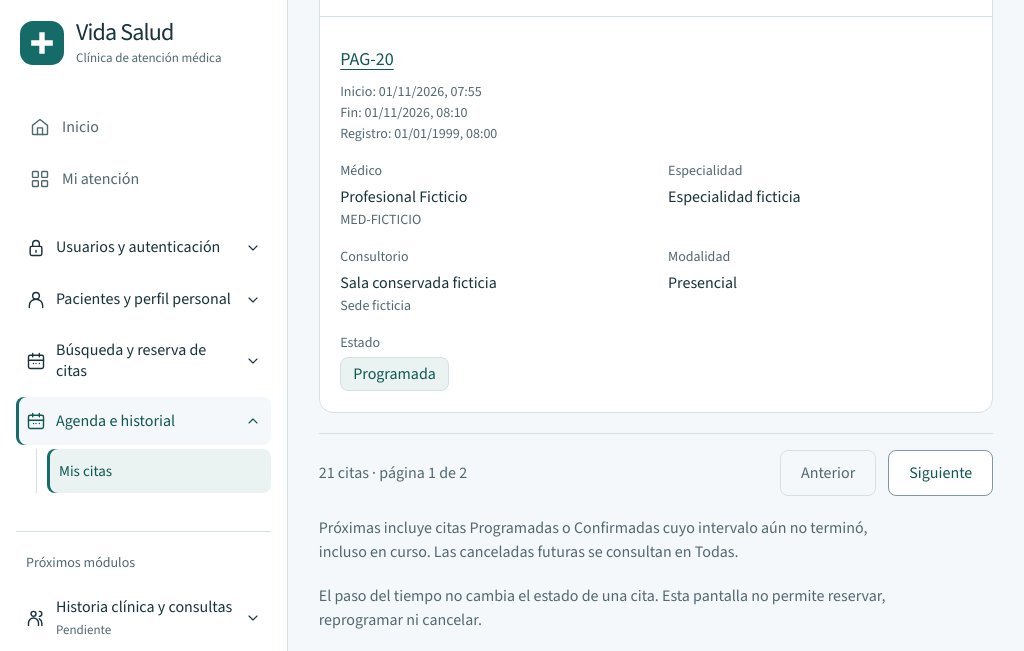
Test case: Paciente pagina y vuelve del detalle conservando criterios, sin guardar citas
This screenshot has width=1024, height=651.
(page scrolled)
What coordinates should you click on to do the following:
click the button "Siguiente"
I would click on:
 (941, 473)
Its box is [888,450,993,496].
(page scrolled)
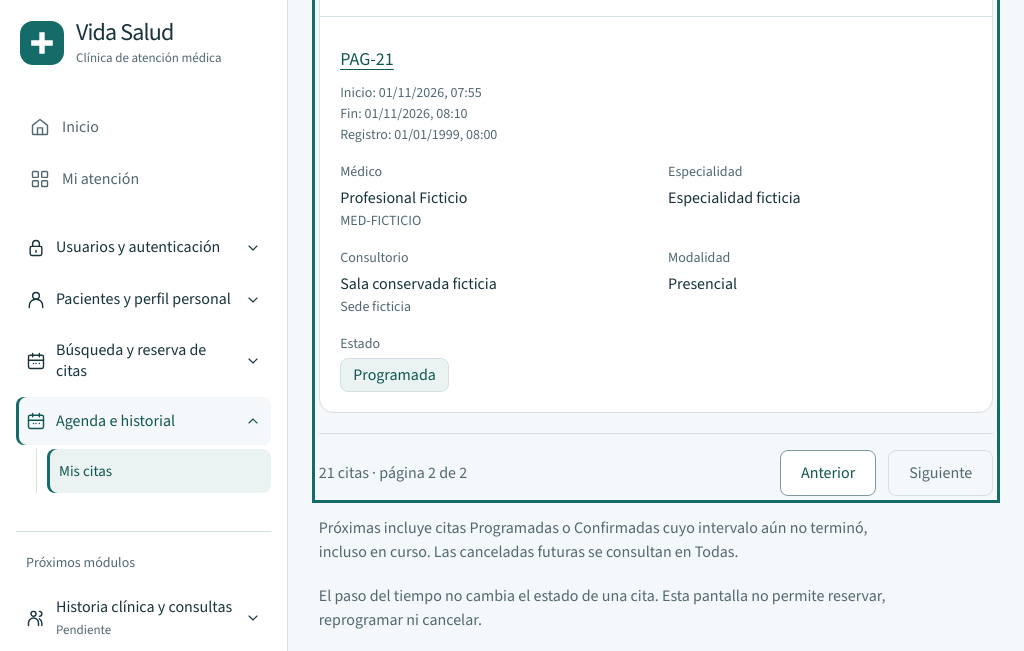
What coordinates should you click on to do the following:
click the link with aria-label "Ver cita PAG-21"
I would click on:
 (367, 59)
Its box is [340,47,394,71].
(page scrolled)
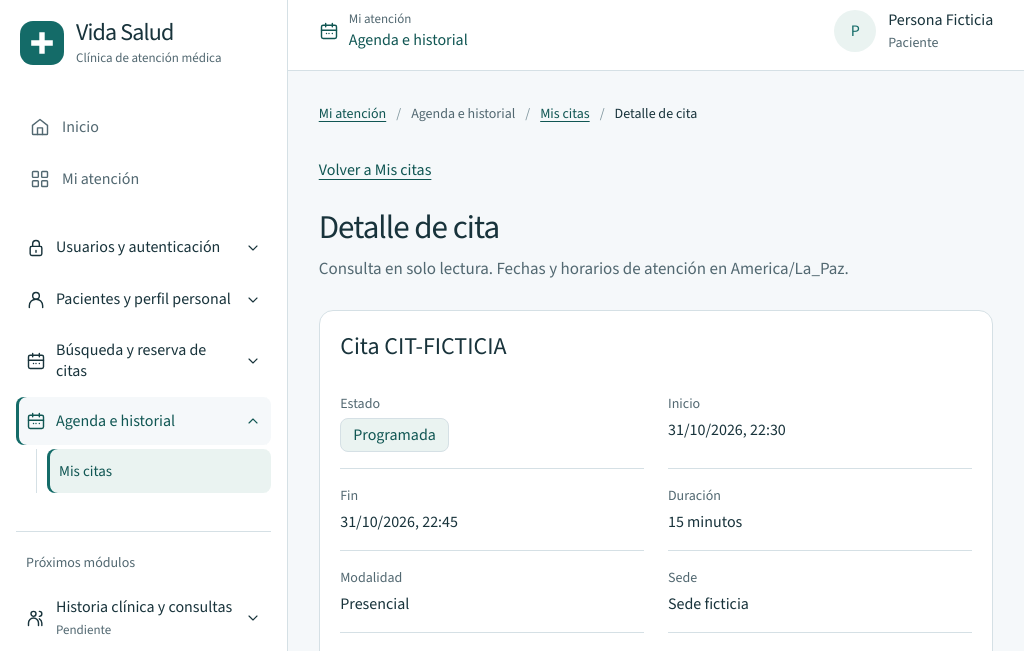
What coordinates should you click on to do the following:
click the link "Volver a Mis citas"
I would click on:
 (375, 170)
Its box is [319,159,431,180].
(page scrolled)
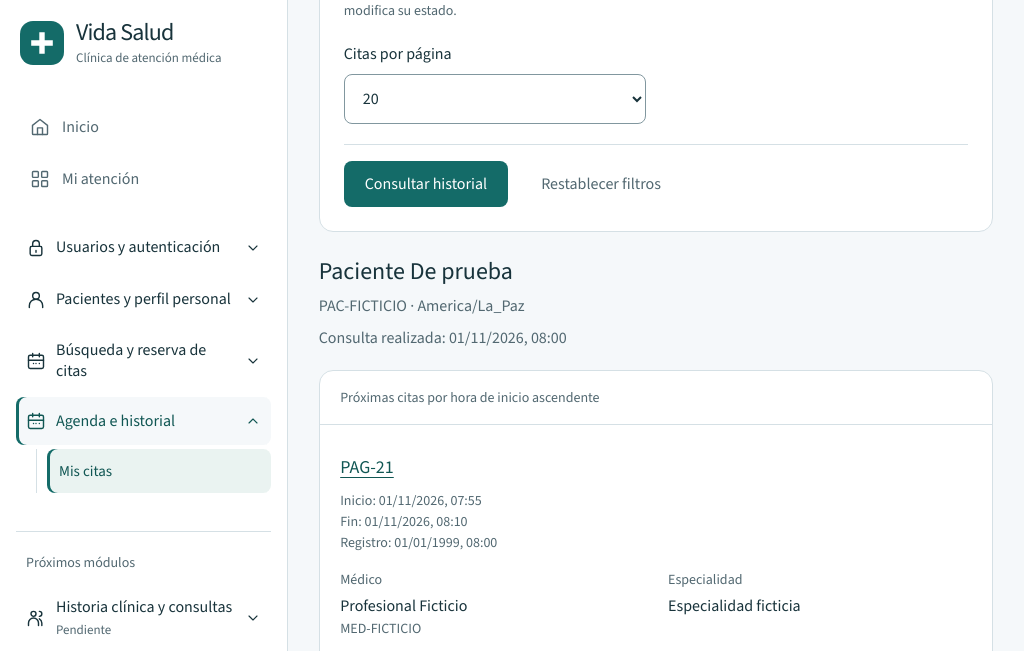
Now the link with aria-label "Ver cita PAG-21" is shown, box [340,455,394,479]
